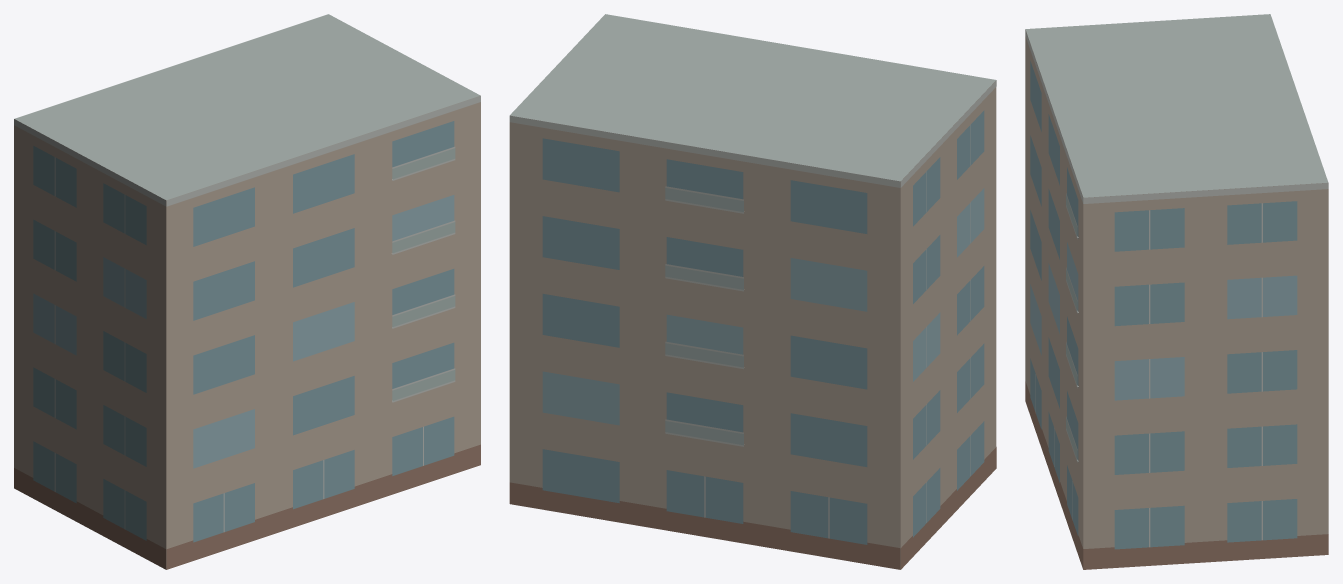
Rendered from survey-upis-32575891.glb.
The picture shows the model from 3 angles, left to right: view 1: azimuth 30°, elevation 25°; view 2: azimuth 150°, elevation 25°; view 3: azimuth 270°, elevation 25°; orthographic projection. The views are drawn at different scales.
Visible parts, largest first — view 1: survey-upis-32575891.tmp; view 2: survey-upis-32575891.tmp; view 3: survey-upis-32575891.tmp.
Boxes of the visible parts, x1=… form: survey-upis-32575891.tmp: x1=14, y1=14, x2=480, y2=569; survey-upis-32575891.tmp: x1=509, y1=14, x2=996, y2=569; survey-upis-32575891.tmp: x1=1025, y1=14, x2=1328, y2=569.
Size of the model in its own units: 15.15 by 14.3 by 10.57.
